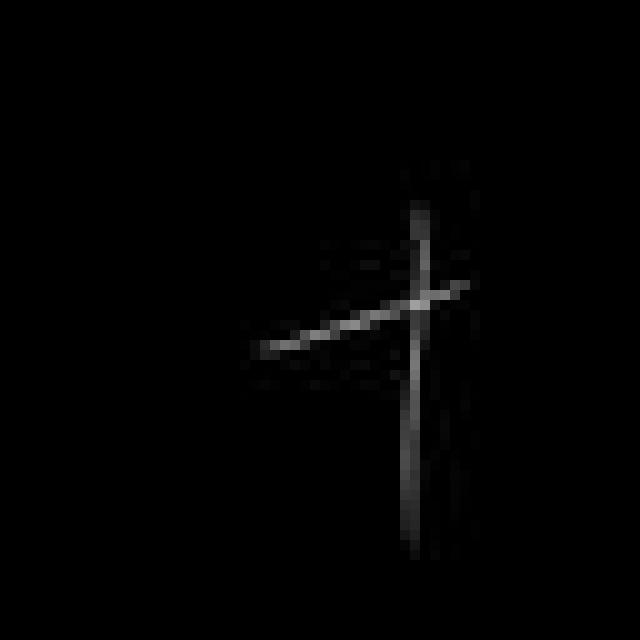10 -ten-: (251, 204, 481, 537)
